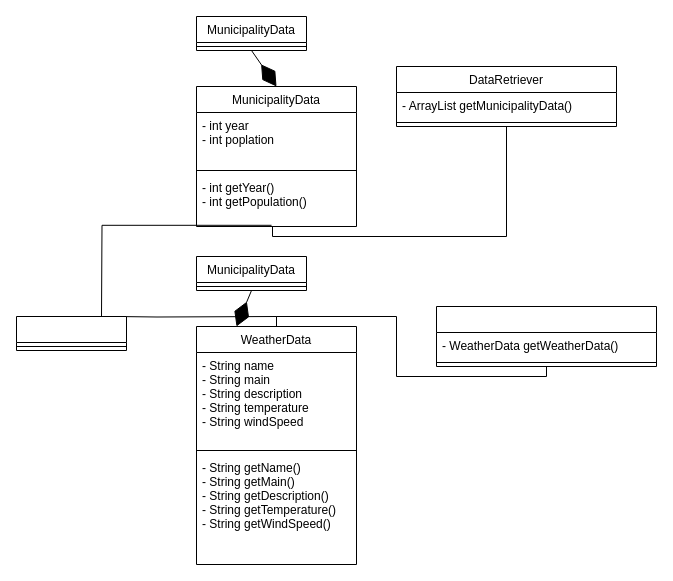
The diagram is 673 pixels wide and 581 high, and some of its shapes have lost their labels. The box of each missing label's shape, as (x1, y1, x2, y2) in pixels:
UI: (16, 316, 126, 350)
WeatherDataRetriever: (436, 306, 656, 366)
